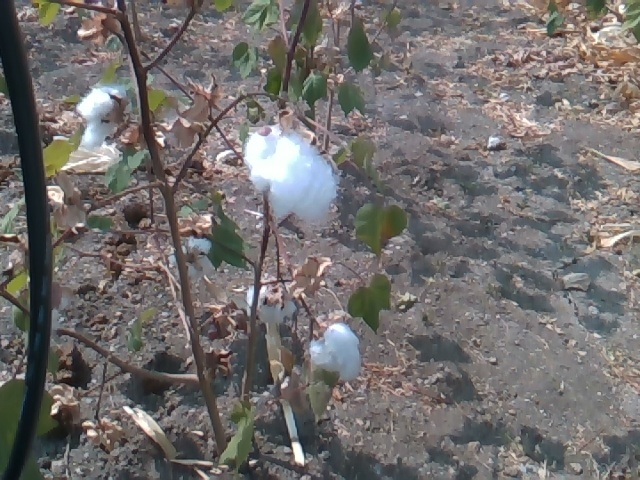cotton: (239, 115, 349, 241), (306, 317, 373, 385), (81, 77, 137, 150), (244, 278, 306, 328), (165, 237, 223, 284)
